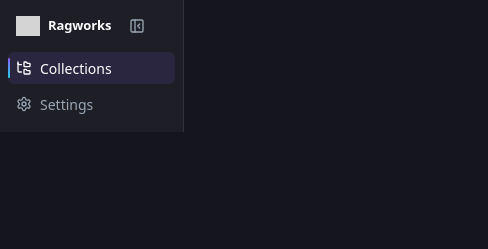
Test case: NavRail flyouts › opens on hover after the intent delay and lists the section's destinations
The image size is (488, 249).
Hover over the element showing "Collections" at (92, 68), box [8, 52, 175, 84]
Wait 80 ms
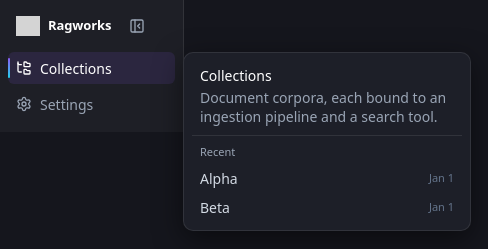
Expected: the text "Document corpora, each bound to an ingestion pipeline and a search tool." is shown, [192, 86, 462, 130]
